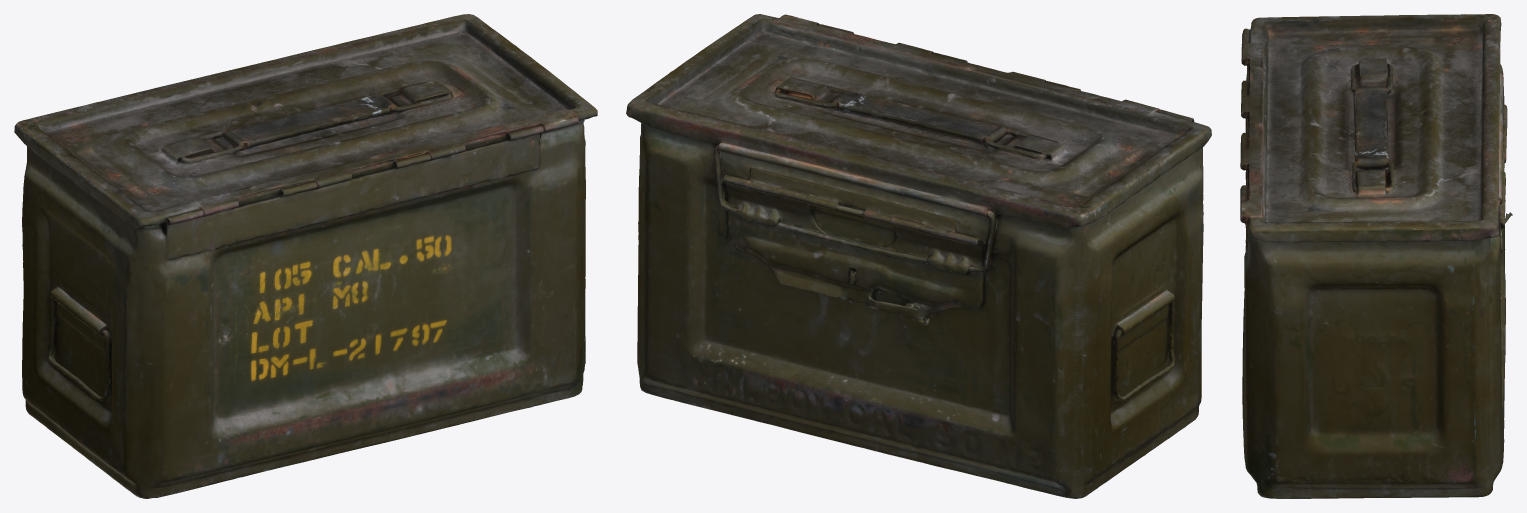
File: Ammo Crate.fbx
The picture shows the model from 3 angles, left to right: view 1: azimuth 30°, elevation 25°; view 2: azimuth 150°, elevation 25°; view 3: azimuth 270°, elevation 25°; orthographic projection. The views are drawn at different scales.
Parts seen in each view (by area): view 1: Model; view 2: Model; view 3: Model.
Boxes of the visible parts, x1=… form: Model: x1=14, y1=14, x2=597, y2=498; Model: x1=626, y1=14, x2=1211, y2=498; Model: x1=1240, y1=14, x2=1512, y2=498.
Size of the model in its own units: 0.6525 by 0.3475 by 0.4015.
